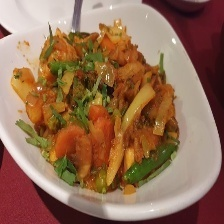sabzi: (10, 18, 180, 194)
